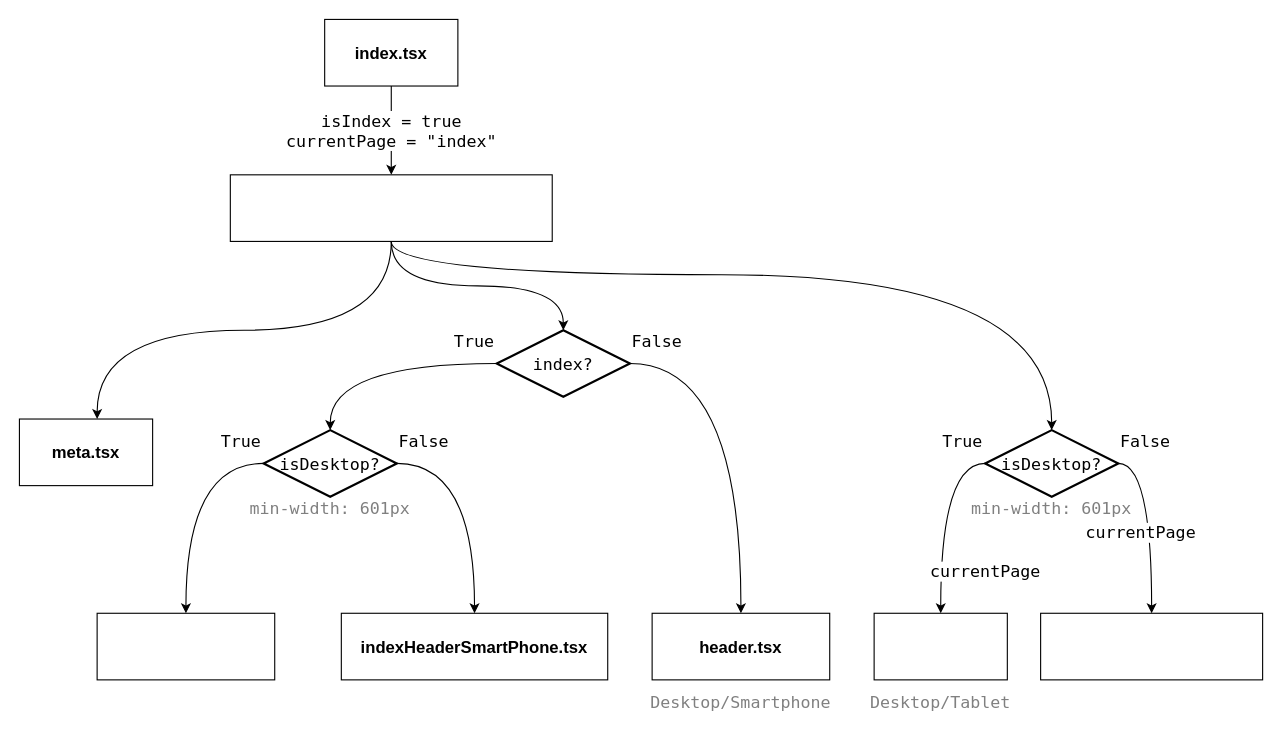
Some shapes in this 1282 by 733 pixel diagram are drawn without their labels. The shapes that lost their labels are listed below. From the top down, each one's centre as x and y in pixels, then its label:
[390,207]: layout.tsx useState() useMediaQuery({ query: "(min-width: 601px)" })
[185,646]: indexHeader.tsx
[940,646]: navbar.tsx
[1151,646]: navbarSmartPhone.tsx useState() // for menu
